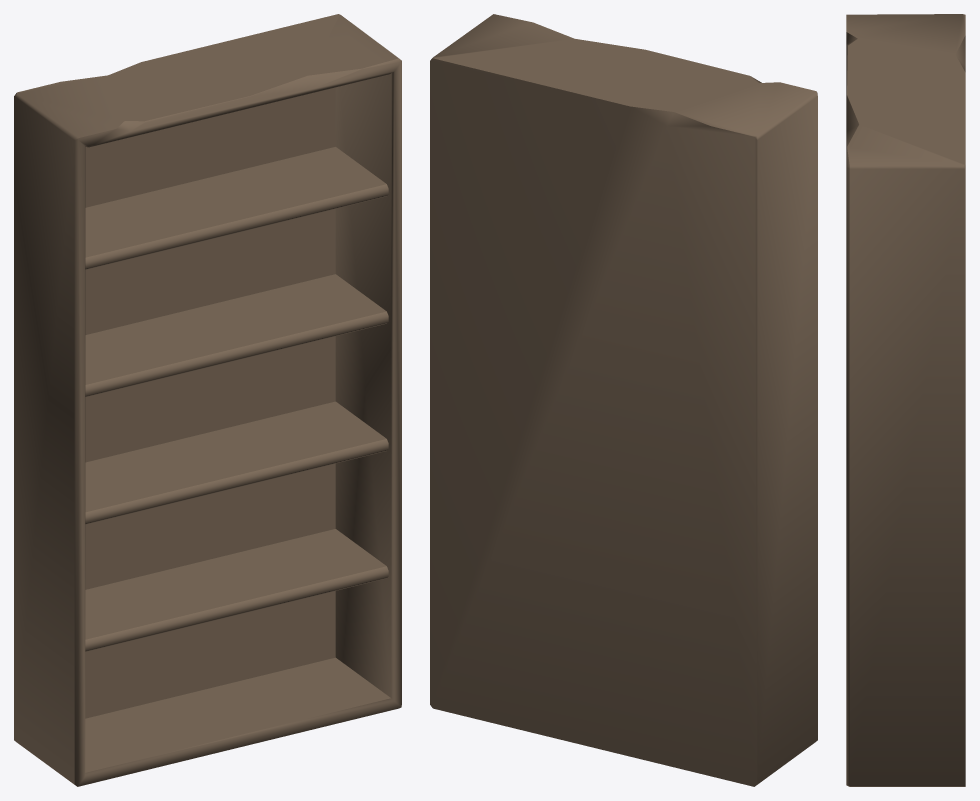
The model's file is BookshelfLg.FBX.
3 views of the same model, side by side, from view 1: azimuth 30°, elevation 25°; view 2: azimuth 150°, elevation 25°; view 3: azimuth 270°, elevation 25° (orthographic). The views are drawn at different scales.
Parts seen in each view (by area): view 1: Bookshelf_02; view 2: Bookshelf_02; view 3: Bookshelf_02.
Boxes of the visible parts, <box> form: Bookshelf_02: <box>14,14,401,786</box>; Bookshelf_02: <box>430,14,817,786</box>; Bookshelf_02: <box>846,14,965,786</box>.
Bounding box in the file's own units: 115 × 219 × 37.92.
